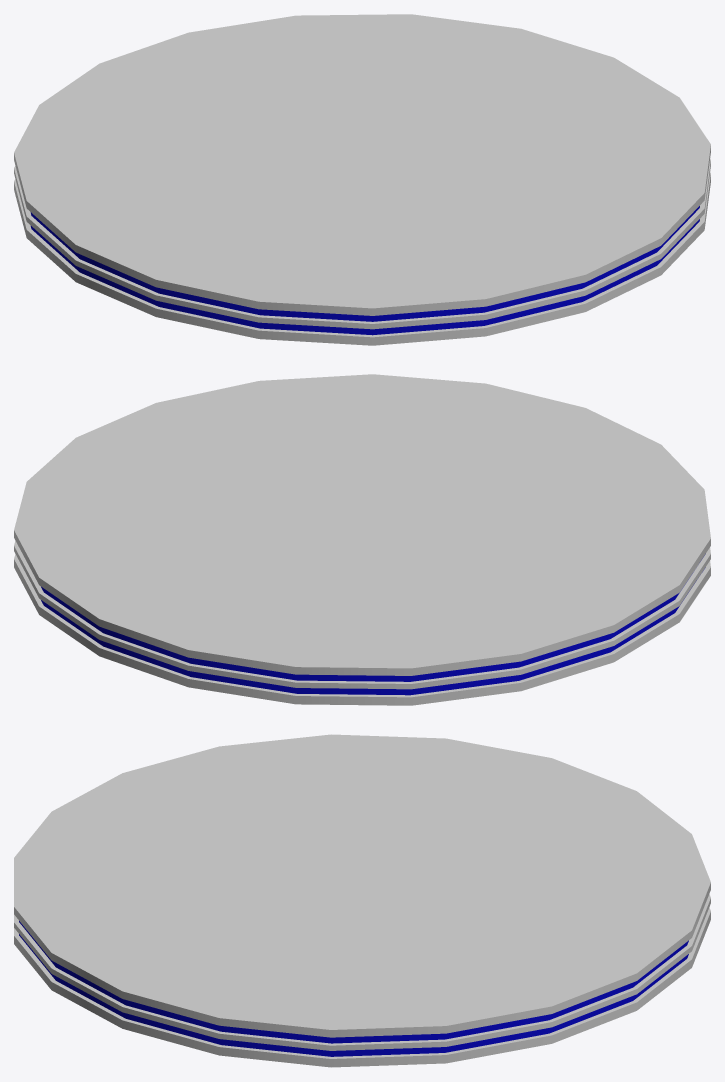
The model's file is Teleport.fbx.
3 views of the same model, one above another, from view 1: azimuth 30°, elevation 25°; view 2: azimuth 150°, elevation 25°; view 3: azimuth 270°, elevation 25° (orthographic).
Parts seen in each view (by area): view 1: Teleport; view 2: Teleport; view 3: Teleport.
Boxes of the visible parts, x1,y1,x2,y2 form: Teleport: (14,14,710,345); Teleport: (14,374,710,705); Teleport: (14,734,710,1067).
Size of the model in its own units: 3.16 by 0.1865 by 3.15.
